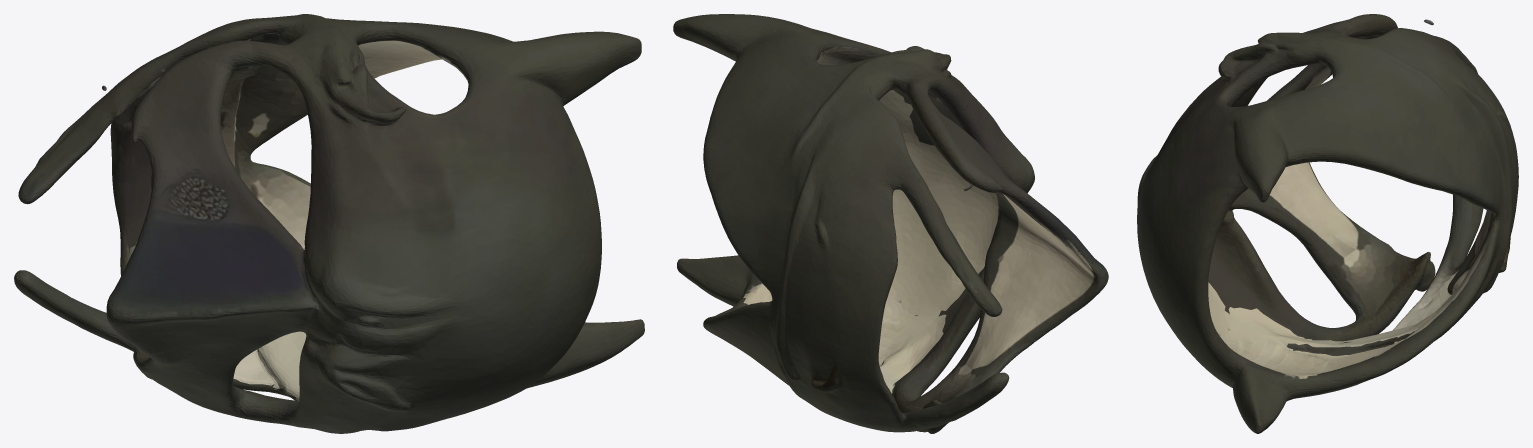
File: batman-cowl.glb
3 renders of one model, left to right at view 1: azimuth 30°, elevation 25°; view 2: azimuth 150°, elevation 25°; view 3: azimuth 270°, elevation 25°, orthographic. The views are drawn at different scales.
Parts seen in each view (by area): view 1: batman cowl_textured.obj; view 2: batman cowl_textured.obj; view 3: batman cowl_textured.obj.
Part boxes in pixels (x1,y1,x2,y2): batman cowl_textured.obj: [14, 14, 644, 433]; batman cowl_textured.obj: [673, 14, 1108, 433]; batman cowl_textured.obj: [1137, 14, 1518, 433].
Size of the model in its own units: 1.99 by 1.44 by 1.52.
Materials: 1 (1 with a texture image).
